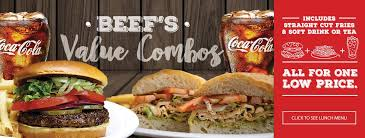coke: (217, 1, 272, 97)
